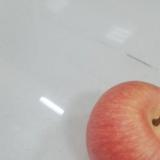apple: (86, 81, 160, 160)
